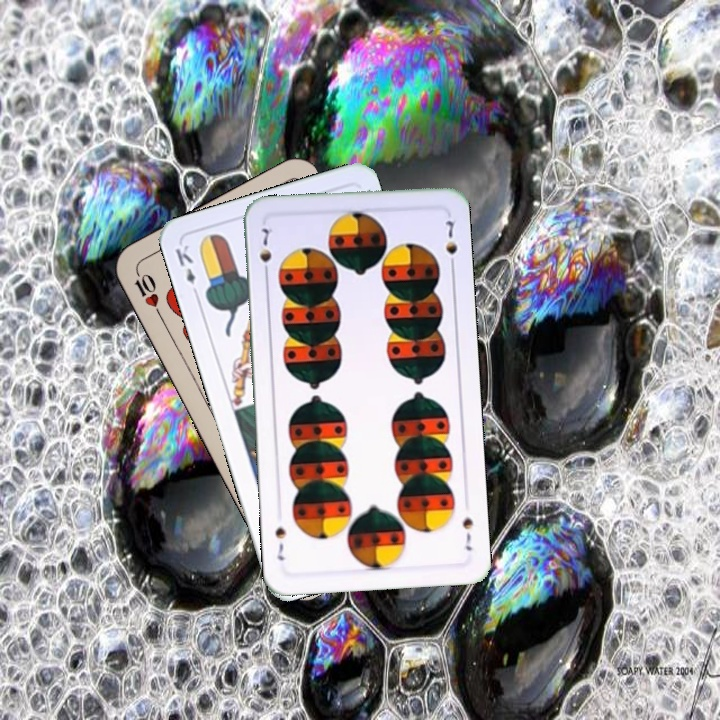EK: (171, 241, 202, 300)
H10: (130, 267, 166, 322)
S7: (255, 224, 275, 280), (458, 512, 476, 553)
